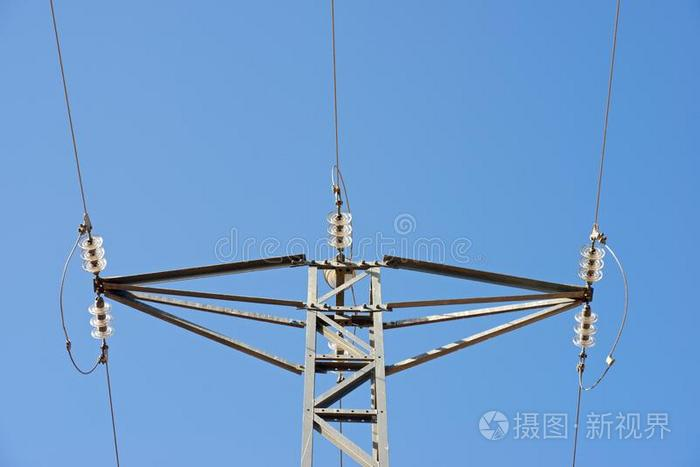insulator: (578, 245, 606, 282), (80, 237, 107, 274), (327, 211, 352, 250), (89, 300, 113, 338), (574, 311, 599, 347)
